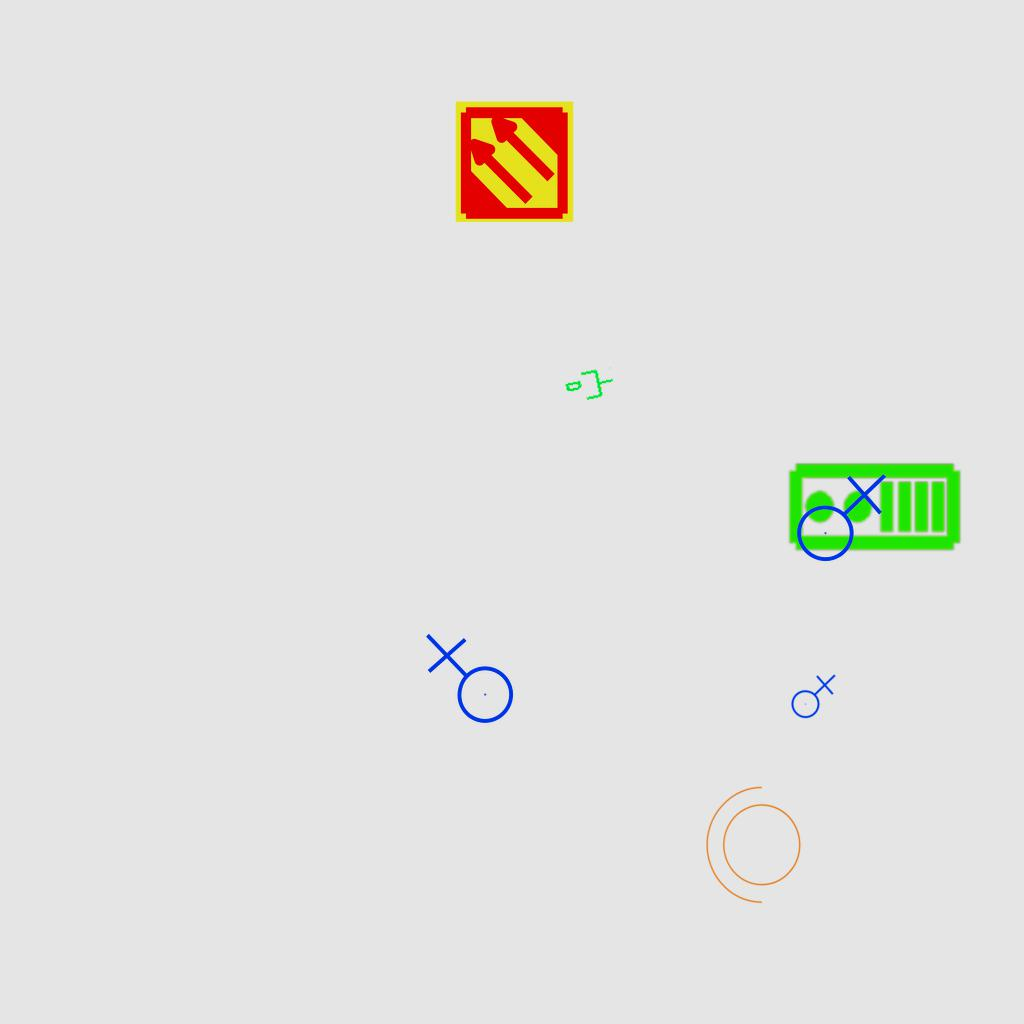ASR_Ansaugrauchmelder: (452, 99, 577, 224)
Datenanschluss_einfach: (562, 364, 618, 408)
Elektroanschluss_allgemein_230V_Geraeteanschlussdose_230V: (421, 633, 515, 732), (788, 469, 887, 563), (787, 672, 836, 719)
Gegensprechanlage_mit_Video: (786, 461, 962, 556)
Scheinwerfer_fuer_Alarmbeleuchtung: (701, 782, 813, 914)
